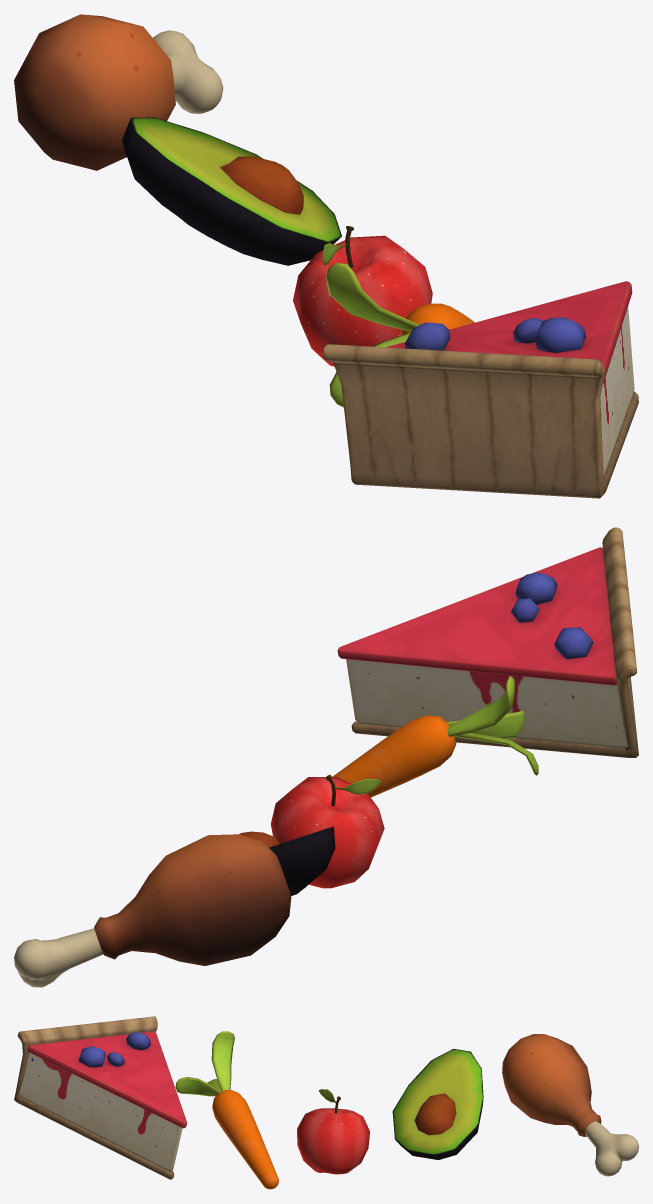
The model's file is low_poly_food.glb.
3 renders of one model, top to bottom at view 1: azimuth 30°, elevation 25°; view 2: azimuth 150°, elevation 25°; view 3: azimuth 270°, elevation 25°, orthographic. The views are drawn at different scales.
Parts seen in each view (by area): view 1: Cake, ChickenLeg, Avocado, Apple, Carrot; view 2: Cake, ChickenLeg, Apple, Carrot, Avocado; view 3: Cake, ChickenLeg, Avocado, Carrot, Apple.
Boxes of the visible parts, x1,y1,x2,y2 form: Cake: (322, 281, 638, 498); ChickenLeg: (14, 14, 223, 170); Avocado: (121, 117, 341, 265); Apple: (293, 226, 432, 366); Carrot: (325, 262, 474, 407); Cake: (337, 527, 638, 757); ChickenLeg: (14, 834, 291, 987); Apple: (270, 775, 384, 888); Carrot: (332, 676, 538, 797); Avocado: (239, 826, 335, 896); Cake: (14, 1016, 186, 1179); ChickenLeg: (502, 1034, 638, 1176); Avocado: (392, 1049, 483, 1159); Carrot: (175, 1031, 278, 1189); Apple: (297, 1089, 369, 1174).
Size of the model in its own units: 0.2525 by 0.1689 by 0.7656.
1 material, 1 textured.
